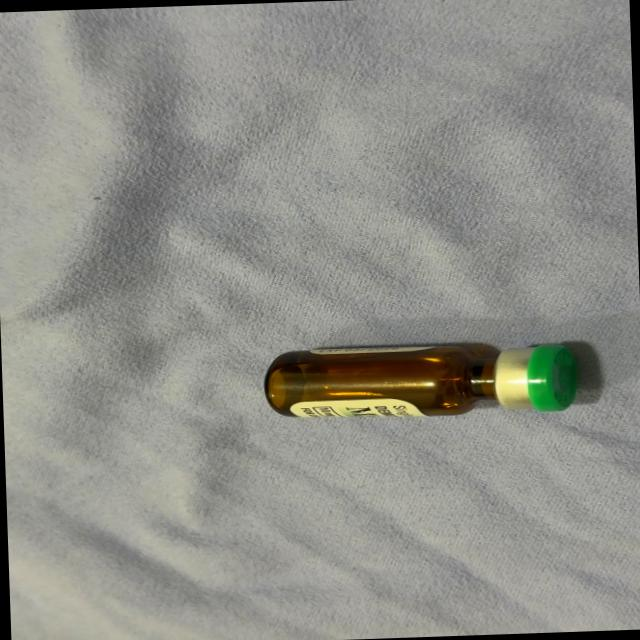midazolm: (268, 340, 572, 420)
